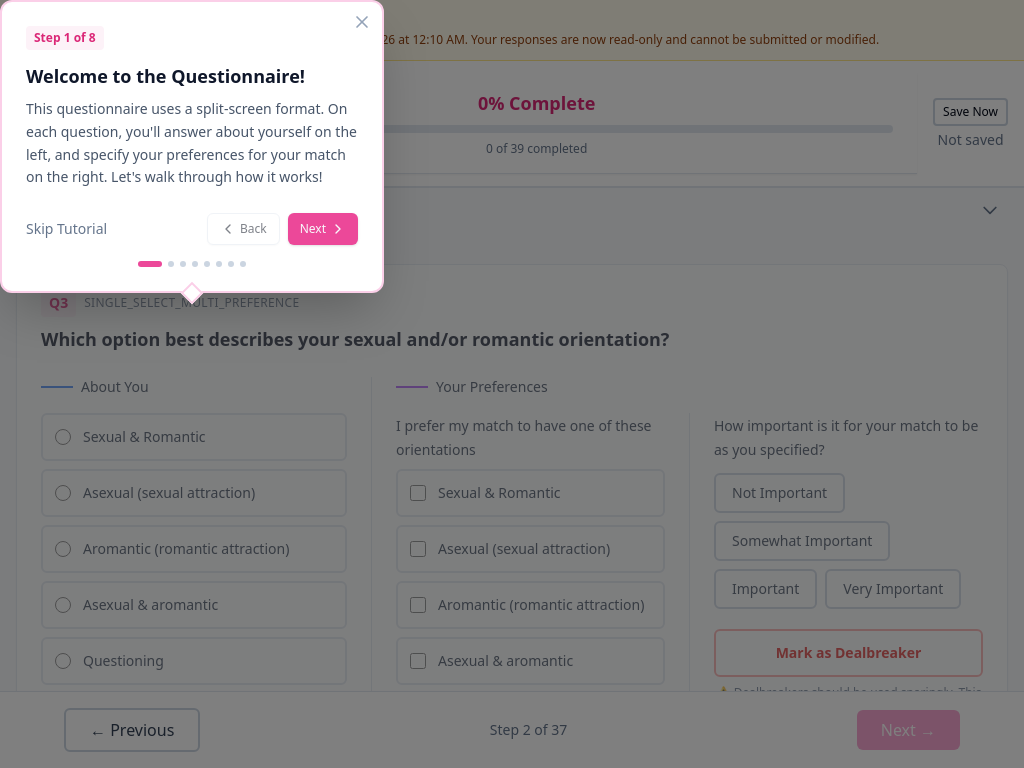
Test: QuestionnaireV2 Tutorial Integration › Tutorial Interaction › should hide tutorial when Skip button is clicked
The width and height of the screenshot is (1024, 768).
Check: the heading "Welcome to the Questionnaire!" is shown, box [26,64,305,88]
Click the button "Skip Tutorial" at [67, 229], box [26,219,107,239]
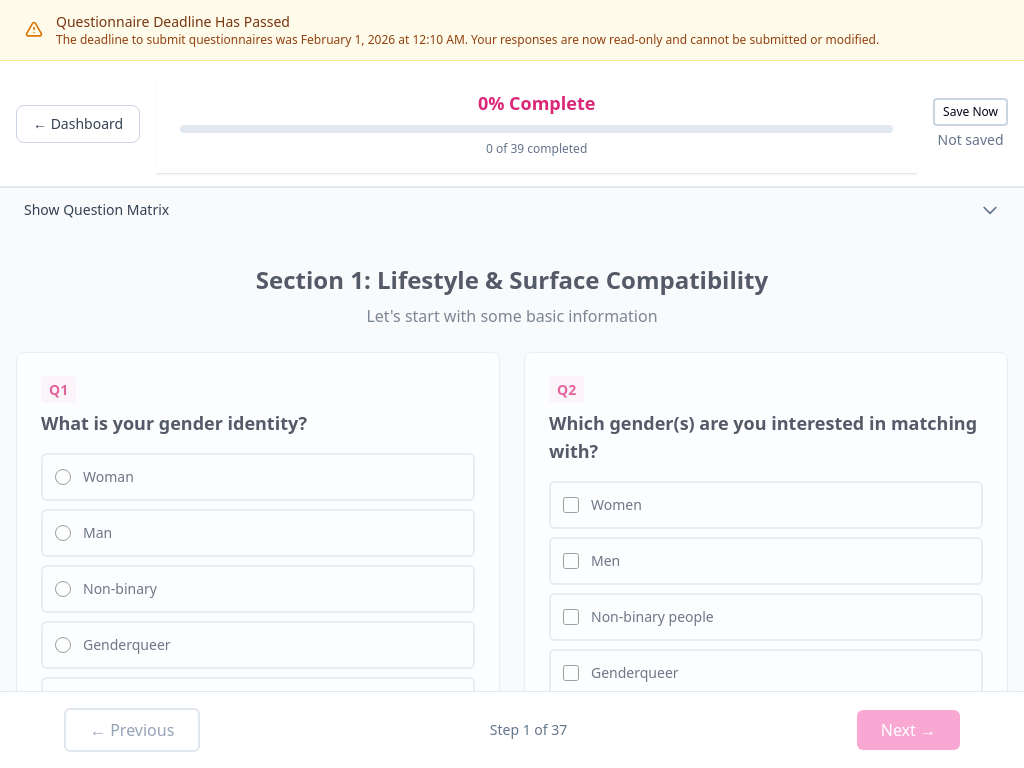
Check: the heading "Welcome to the Questionnaire!" is gone
